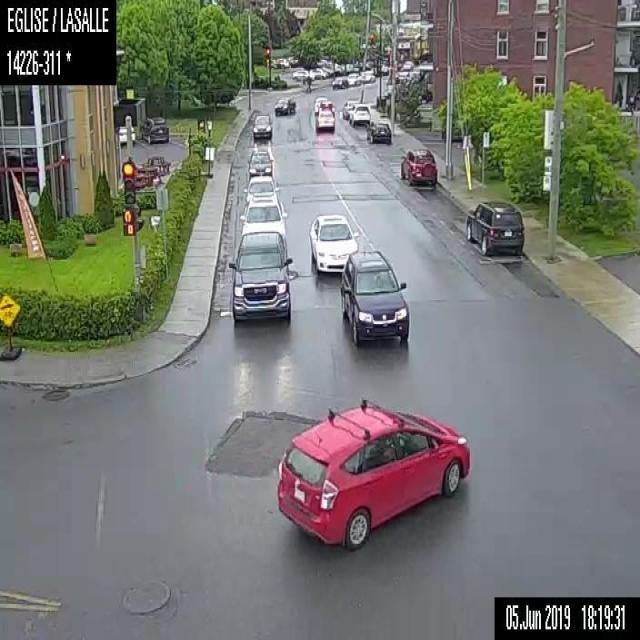pedestrian: (304, 72, 310, 93)
vehicle: (273, 397, 471, 551), (333, 247, 409, 343), (227, 228, 292, 322), (464, 197, 524, 256), (308, 212, 357, 274), (238, 194, 286, 234), (399, 145, 436, 184), (240, 175, 280, 197), (246, 147, 276, 176), (140, 115, 168, 144), (366, 116, 391, 143), (348, 102, 371, 126), (251, 112, 271, 139), (312, 107, 334, 131), (273, 96, 295, 115), (117, 123, 134, 145), (342, 98, 355, 118), (313, 96, 327, 112), (346, 70, 360, 86), (361, 70, 375, 84), (331, 76, 346, 89)
